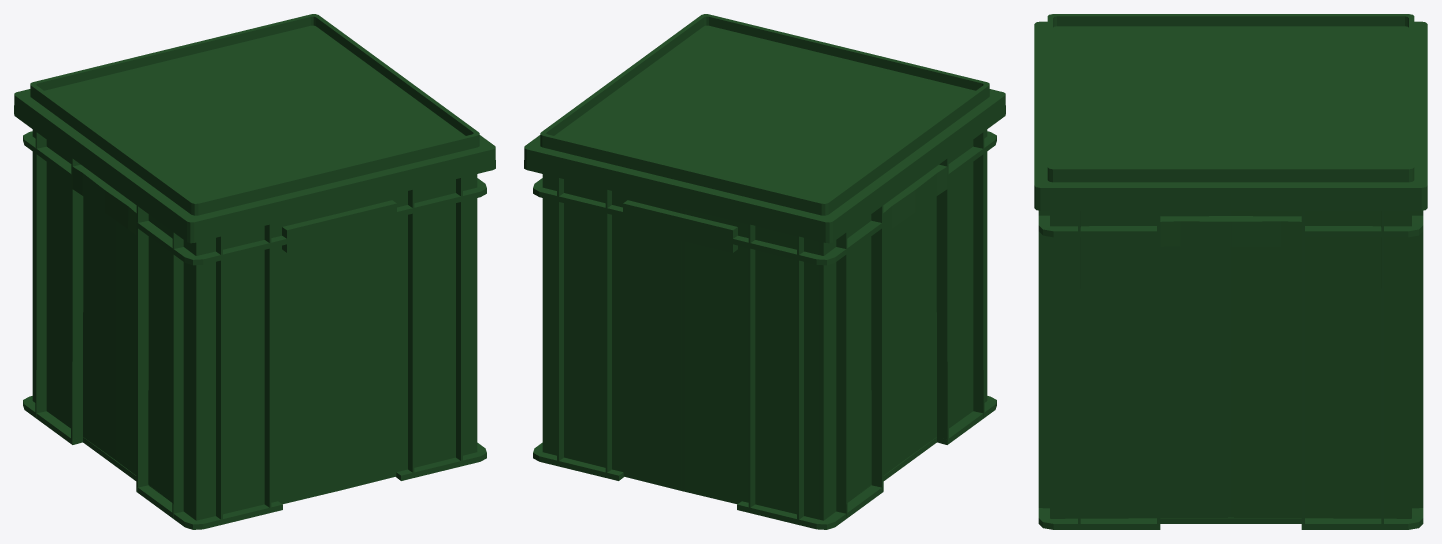
The model's file is GBox.obj.
3 views of the same model, side by side, from view 1: azimuth 30°, elevation 25°; view 2: azimuth 150°, elevation 25°; view 3: azimuth 270°, elevation 25° (orthographic). The views are drawn at different scales.
Parts seen in each view (by area): view 1: GBoxBase, GBoxHeat; view 2: GBoxBase, GBoxHeat; view 3: GBoxBase, GBoxHeat.
Boxes of the visible parts, <box> form: GBoxBase: <box>23,129,486,529</box>; GBoxHeat: <box>14,14,495,243</box>; GBoxBase: <box>533,129,996,529</box>; GBoxHeat: <box>524,14,1005,243</box>; GBoxBase: <box>1038,210,1423,529</box>; GBoxHeat: <box>1034,14,1427,210</box>.
Size of the model in its own units: 0.3286 by 0.3289 by 0.328.
